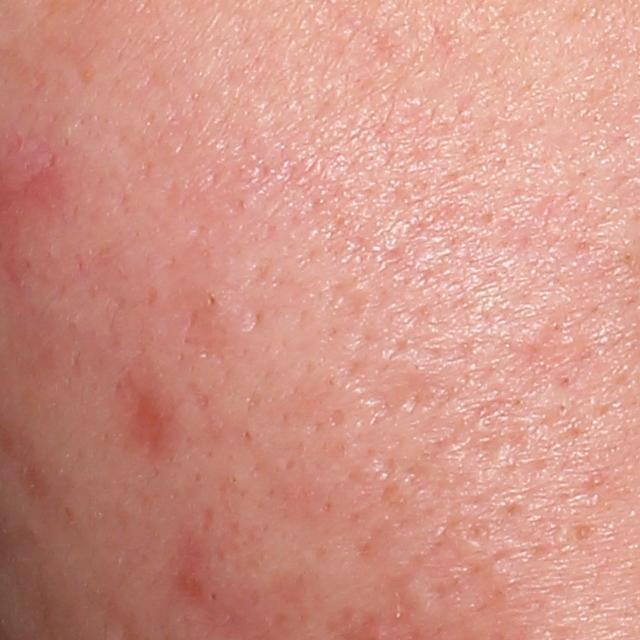atrophic_scar: (335, 344, 468, 427)
comedo: (194, 287, 226, 314)
